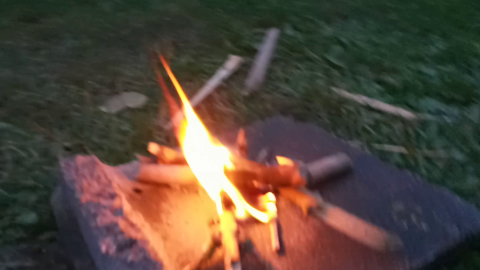fire: (143, 49, 253, 206)
